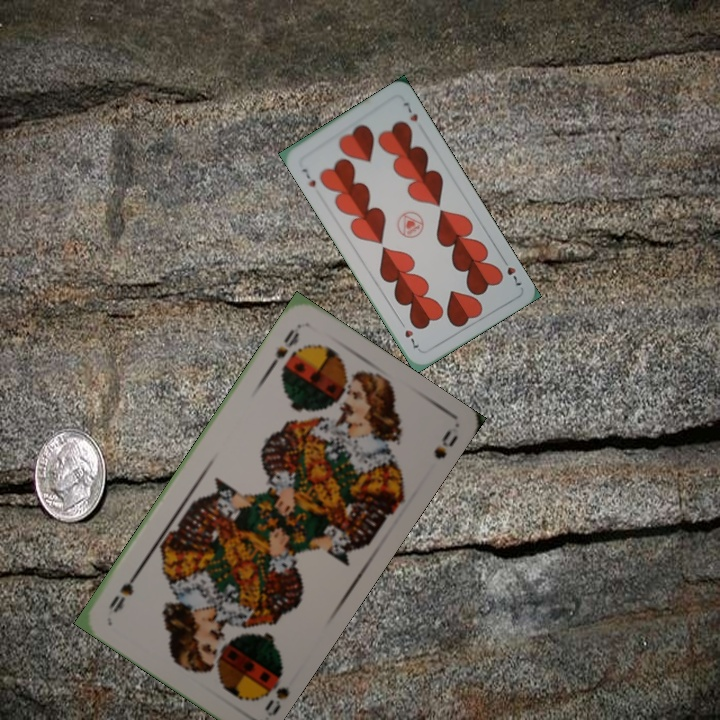H7: (498, 253, 525, 288), (298, 164, 318, 189)
SO: (253, 661, 293, 719), (264, 324, 302, 375)
